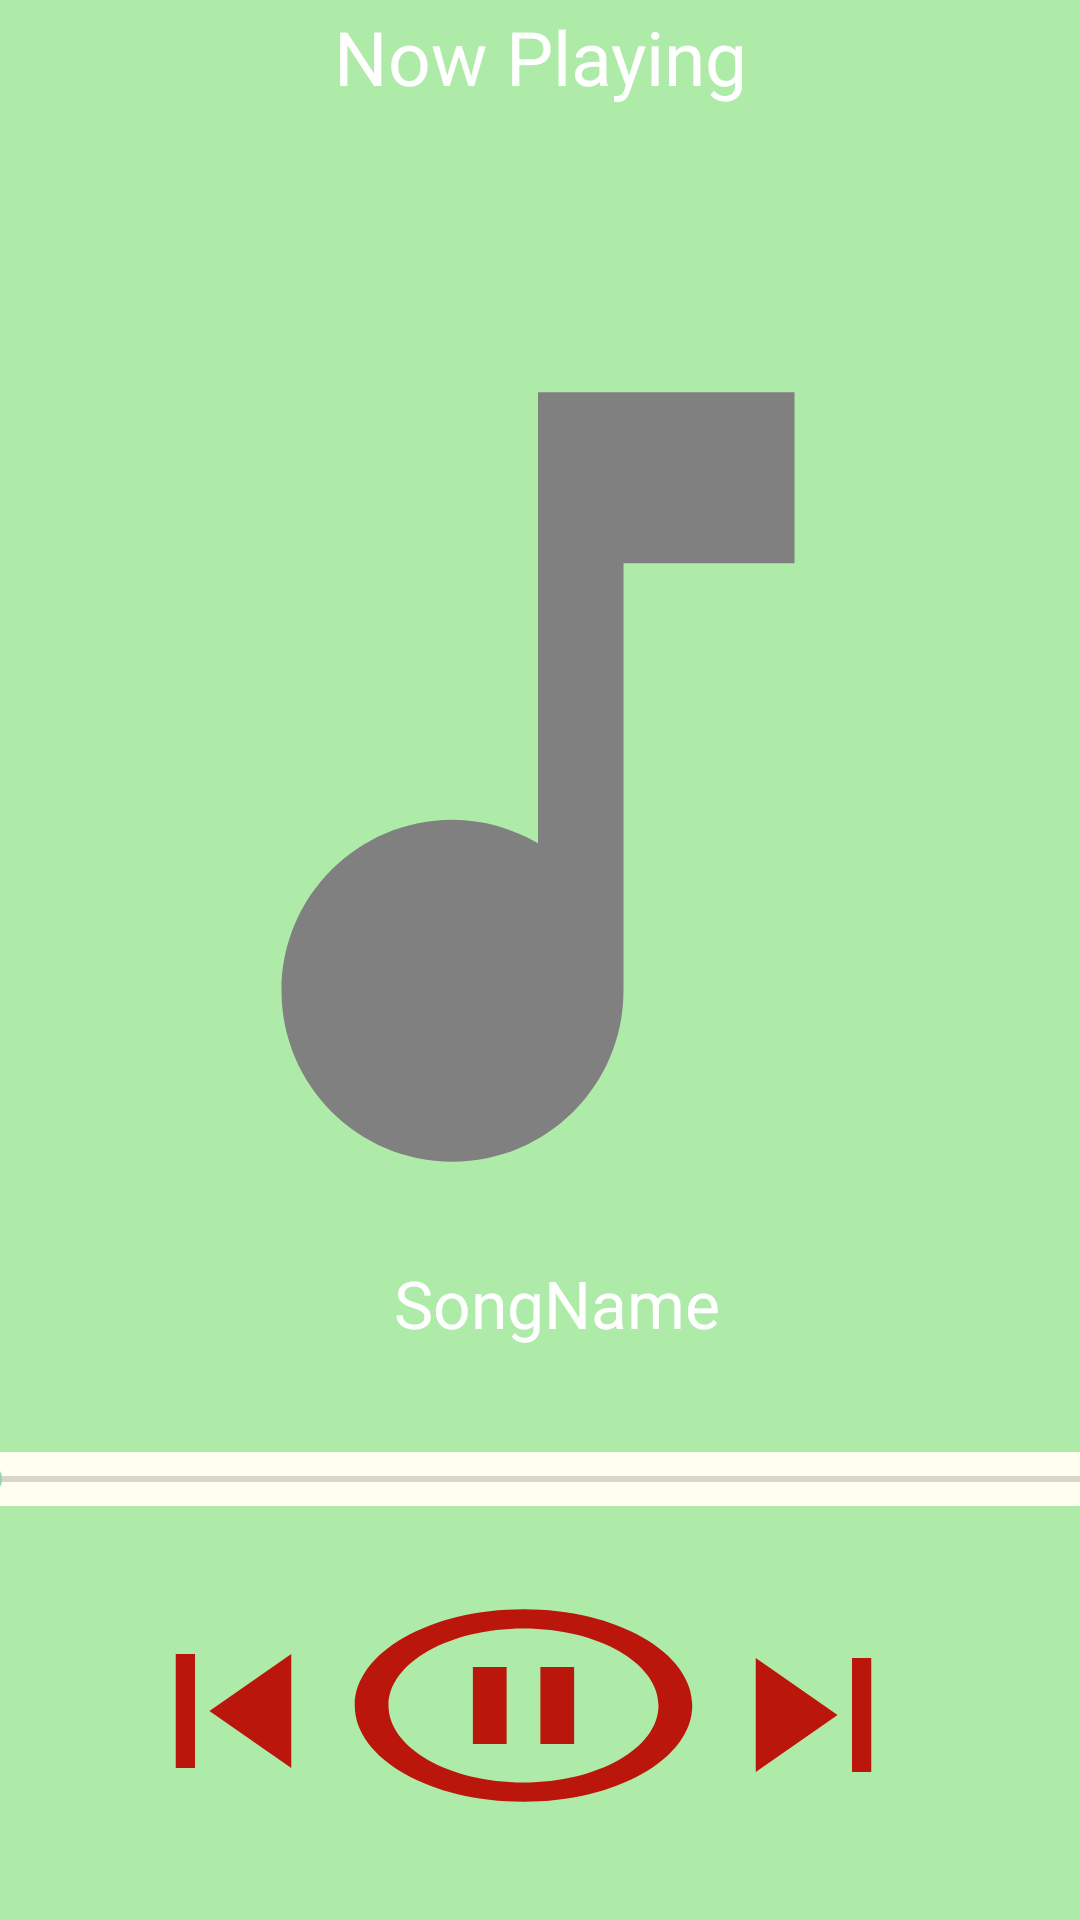

Screen size 1080×1920. Icon name, then its center in pixels as (x,y):
pause: (523,1705)
skip next: (813,1715)
skip previous: (233,1711)
